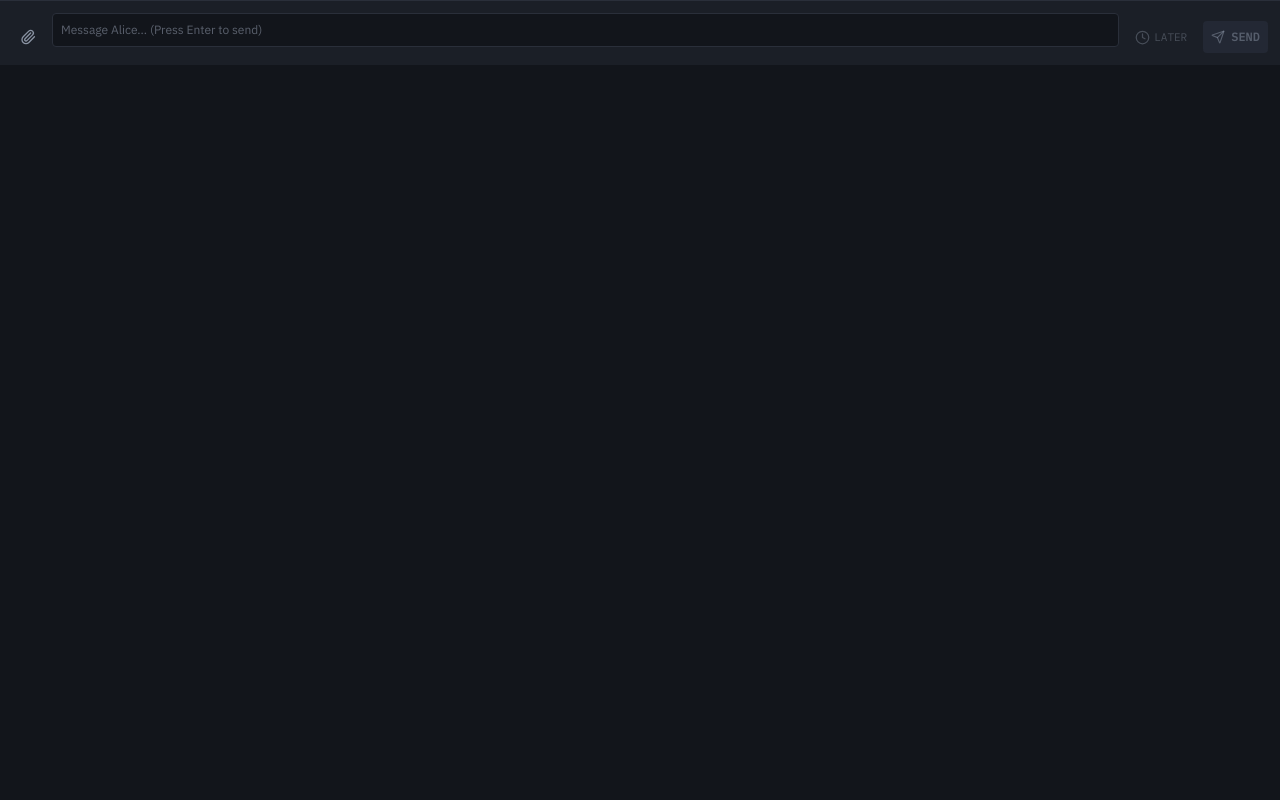
Test: SendConfirmModal keyboard flow › opens on the scheduling flow when the composer asks for LATER
Type "later" into the text box with placeholder "Message Alice... (Press Enter to send)" at point(586, 30), box x1=52 y1=13 x2=1119 y2=47
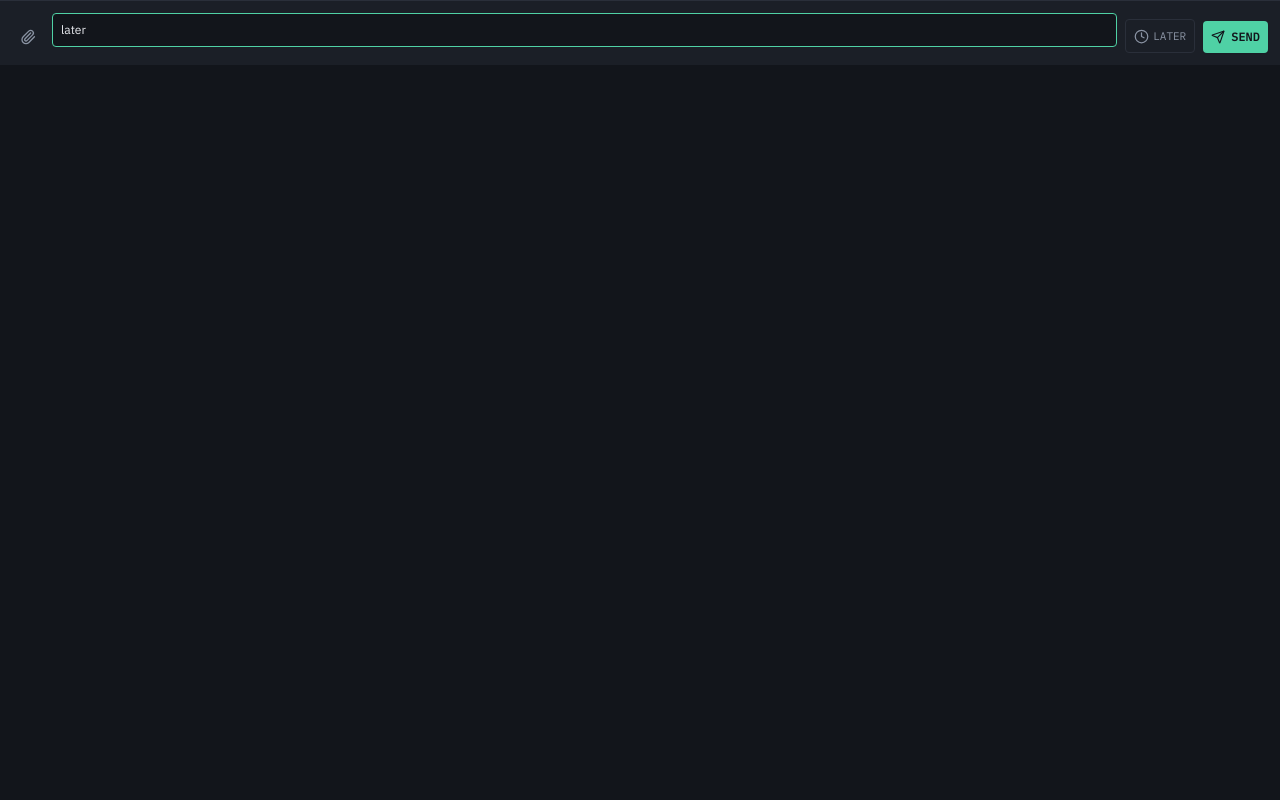
Click the button "LATER" at point(1160, 36), box x1=1125 y1=19 x2=1195 y2=53
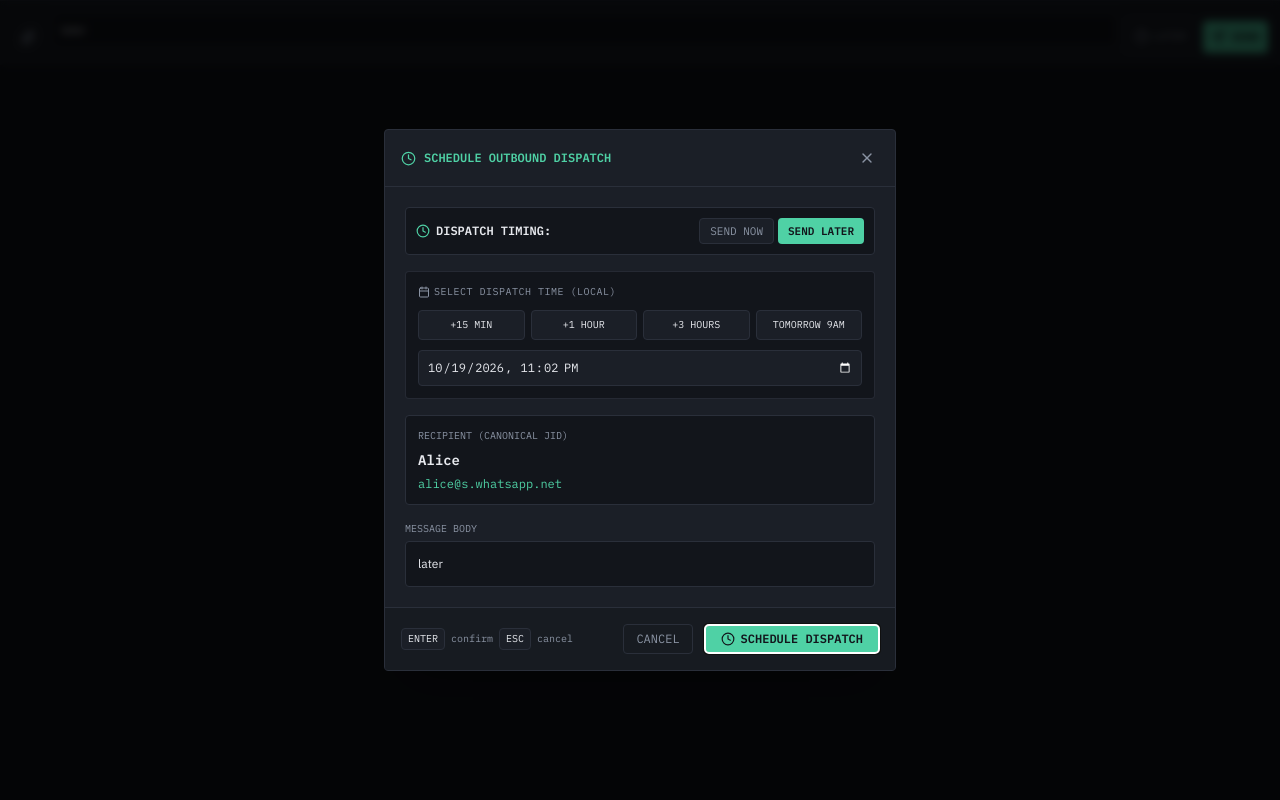
Expected: the heading reads "SCHEDULE OUTBOUND DISPATCH", x1=424 y1=150 x2=611 y2=165
Expected: the field named "Dispatch time" is shown, x1=418 y1=350 x2=862 y2=386
